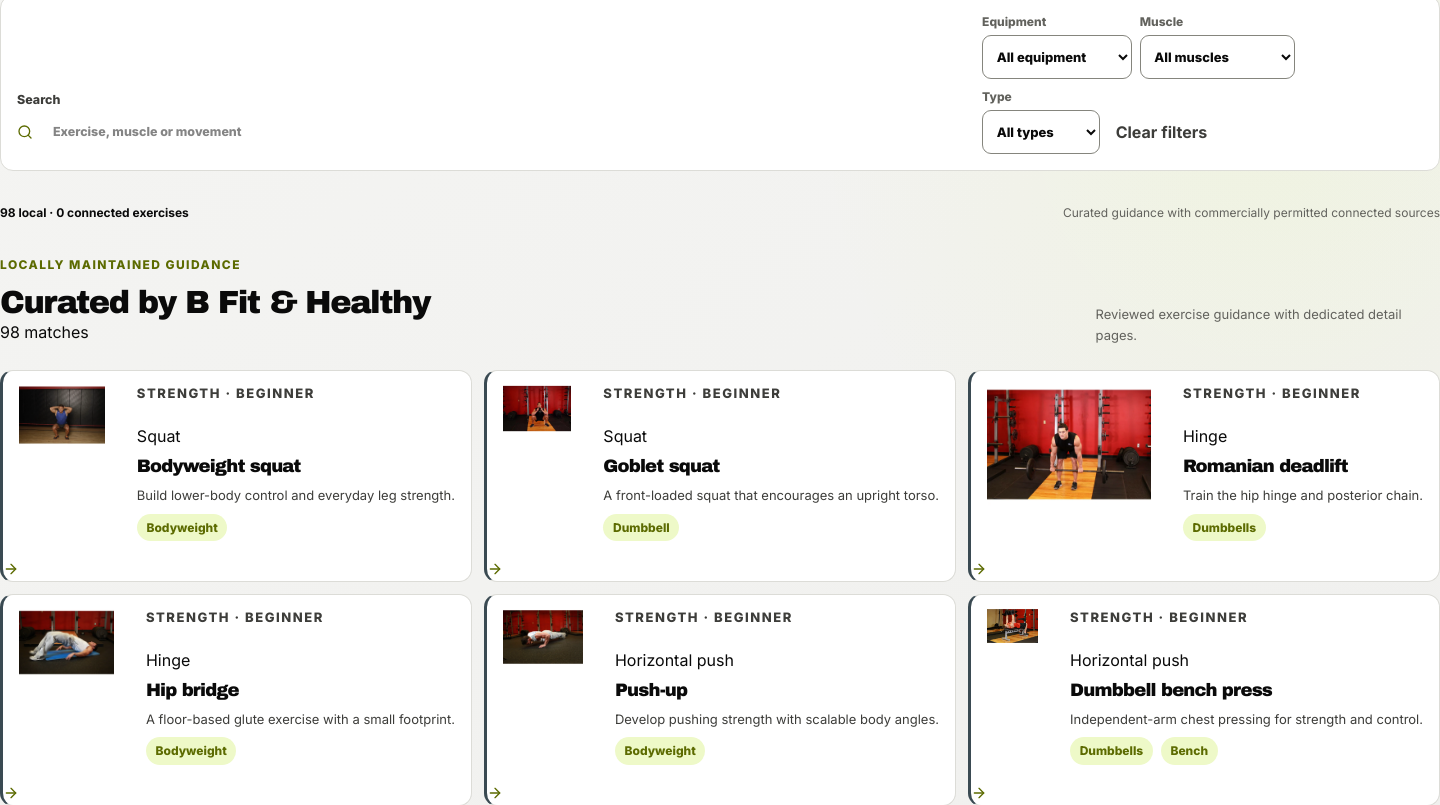
ExerciseLibrary › explains when only curated exercises match
Type "squat" into the search field at (506, 132), box [41,110,970,154]
Wait 275 ms
(page scrolled)
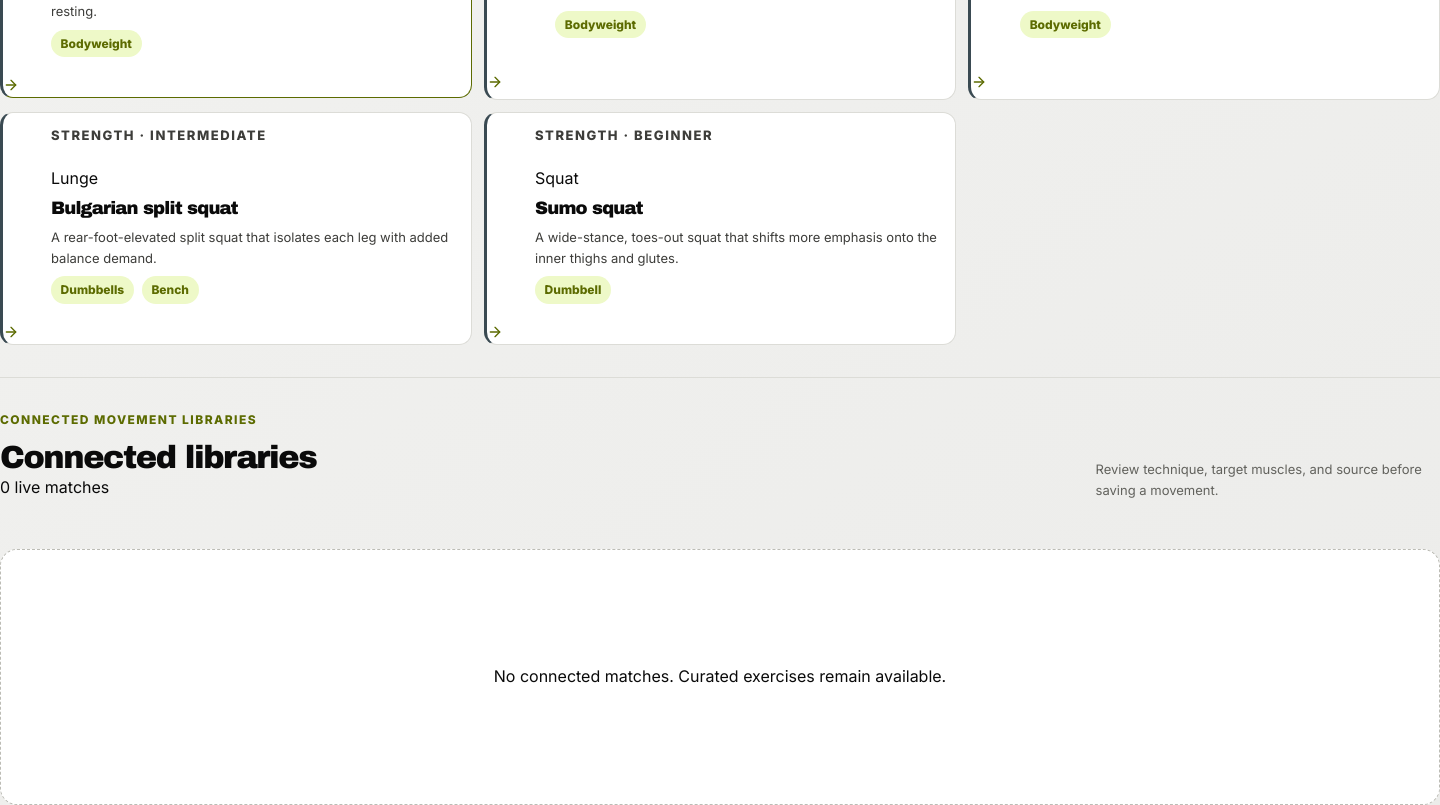
Check: the text "No connected matches. Curated exercises remain available." is shown, box [494,664,946,690]
